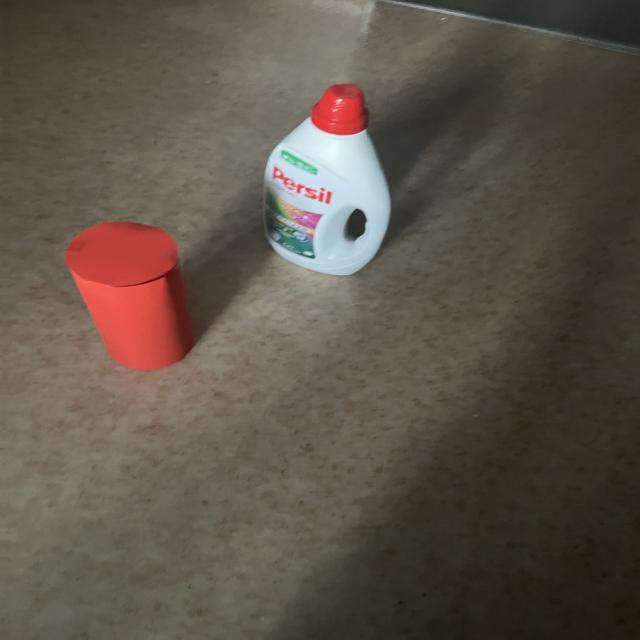przeszkoda: (65, 222, 194, 370)
